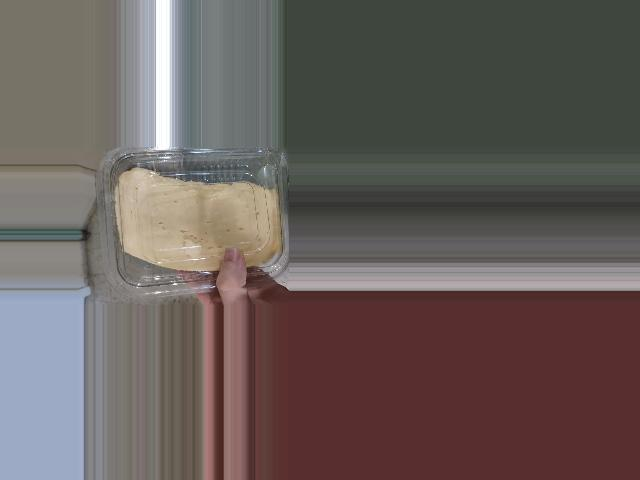cheese: (96, 146, 290, 280)
